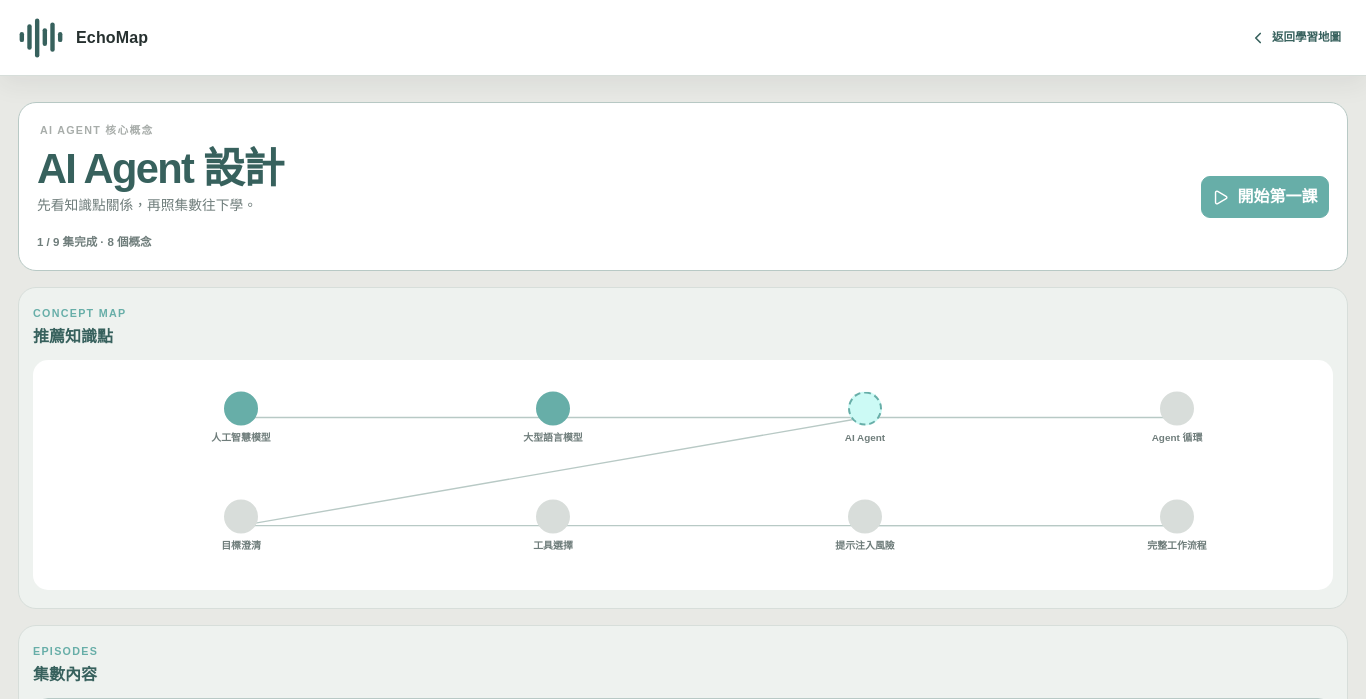
Test: NodeDetail › marks the selected concept and filters episodes
The image size is (1366, 699).
Click the button "工具選擇". click: x=553, y=526
box: [521, 499, 585, 552]
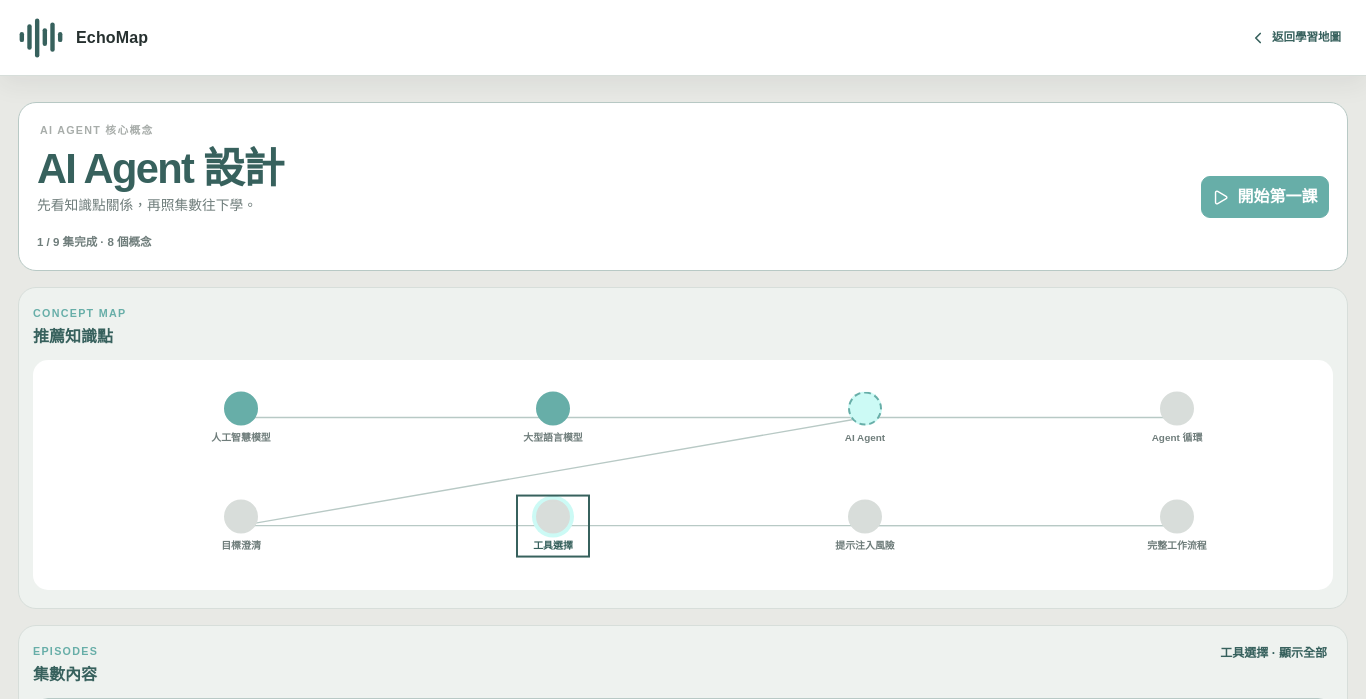
Check: the button "工具選擇 · 顯示全部" is shown, box [1214, 642, 1333, 665]
